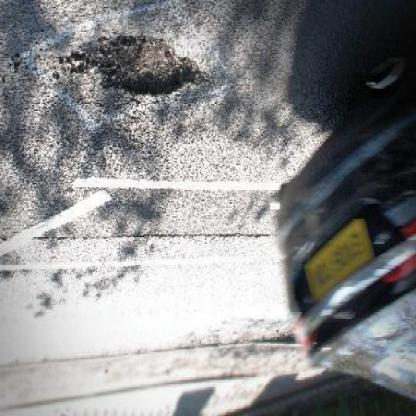pothole: (76, 35, 210, 100), (261, 331, 300, 348)
